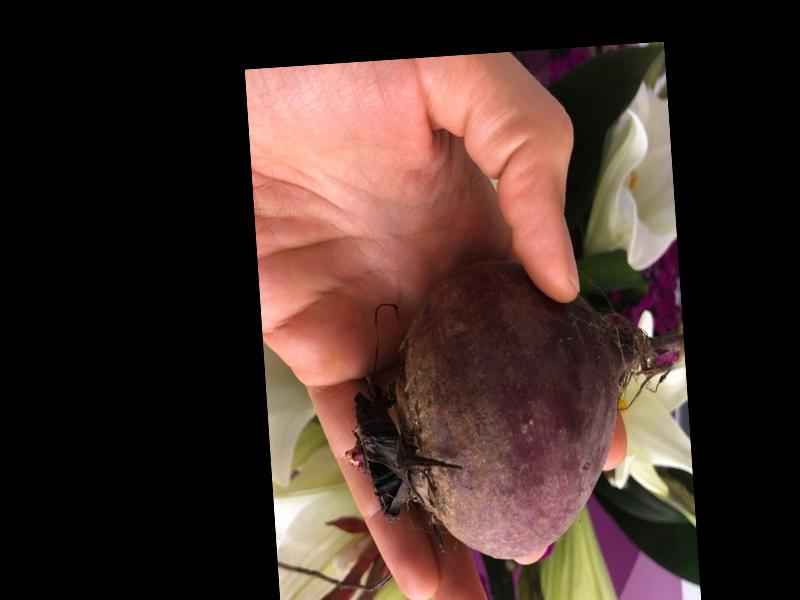Beet: (335, 249, 696, 571)
